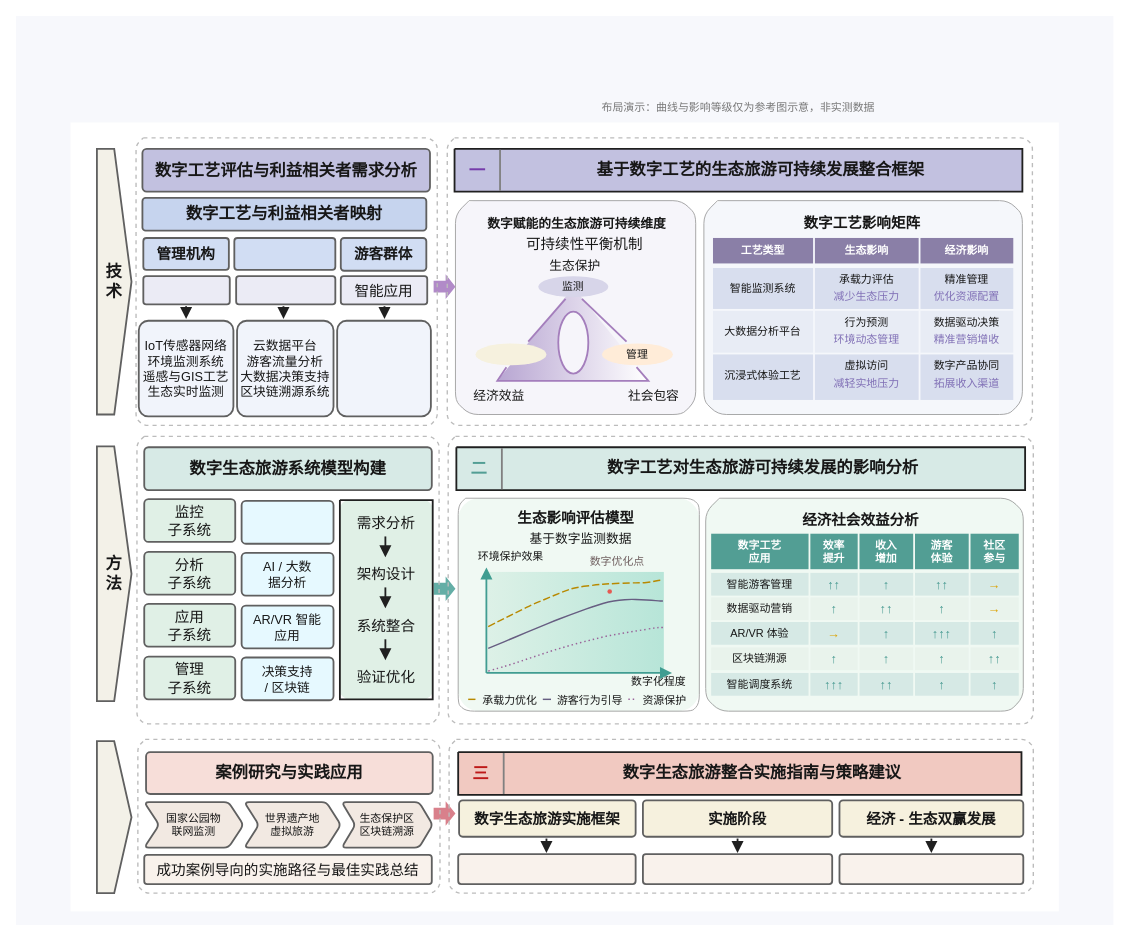
The diagram is 1128 pixels wide and 940 high, and some of its shapes have lost their labels. Here are the shapes that lost their labels. From the top down, the centre of each, then its label:
At point 284,253: "旅游经营者".
At point 186,290: "监测工艺".
At point 285,290: "数据平台".
At point 510,354: "分析".
At point 573,342: "数 字 整 合".
At point 383,368: "AR/VR体验应用 智能预约系统 个性化路线 规划 生态教育应用".
At point 287,522: "传感网络 / 遥感".
At point 114,817: "应 用".
At point 546,869: "数字基础设施支持策略".
At point 737,869: "数字技能培训与能力建设".
At point 931,869: "数字生态旅游标准体系".
